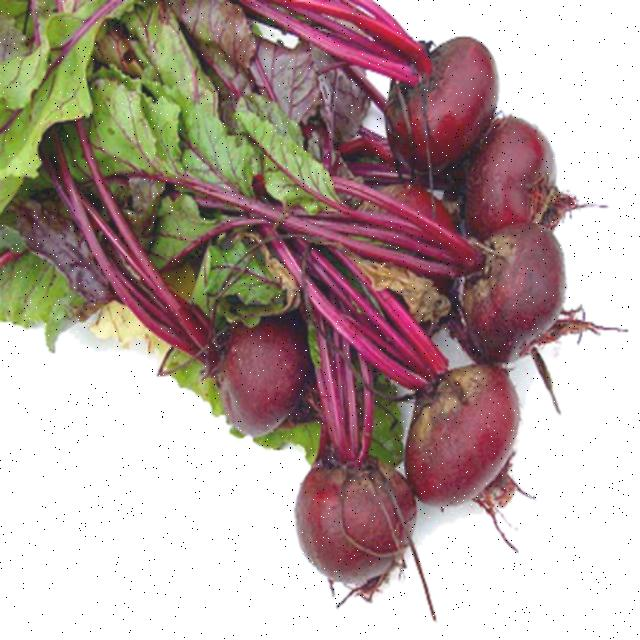Beetroot: (188, 283, 513, 629), (398, 0, 608, 347)
